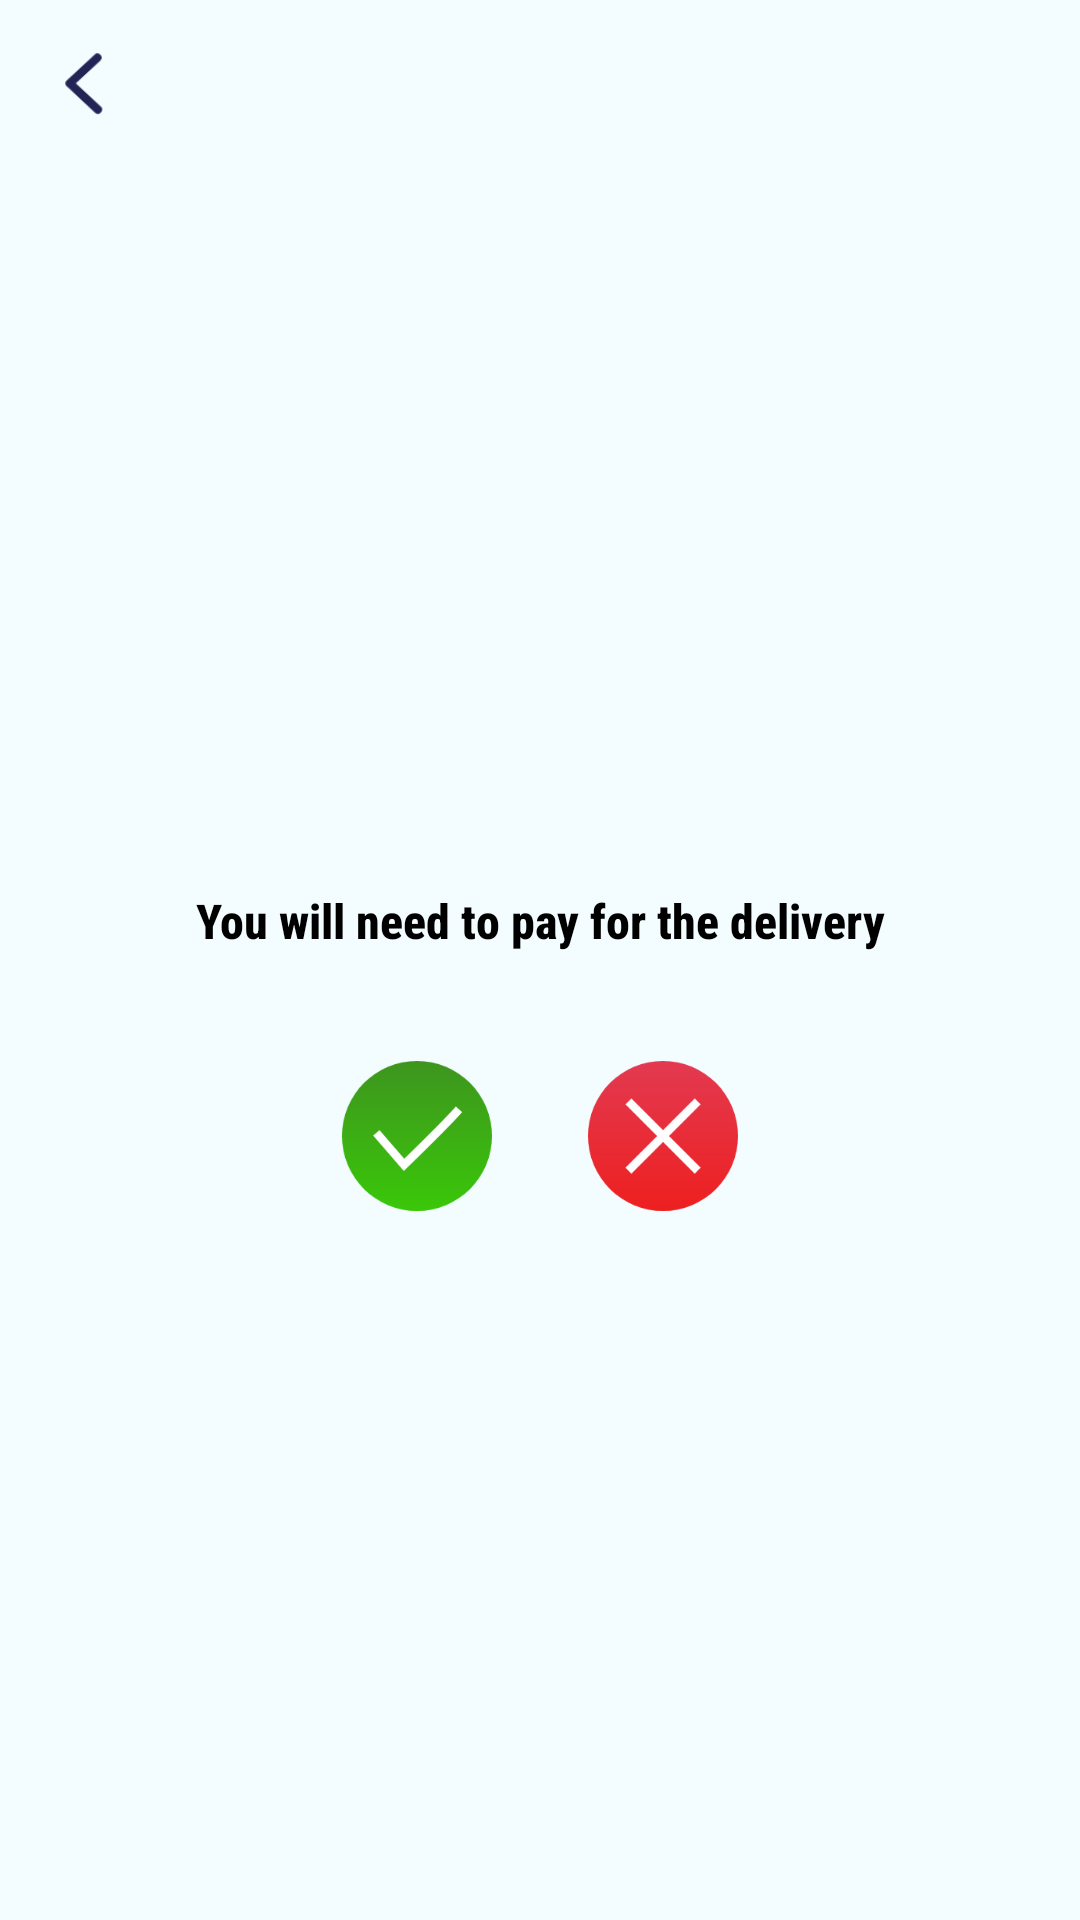

Named icons in this screenshot (1080px x 1920px) and their bounding boxes, box(x1, y1, x2, y2):
back: box(65, 53, 103, 115)
check: box(342, 1061, 492, 1211)
cross: box(588, 1061, 738, 1211)
